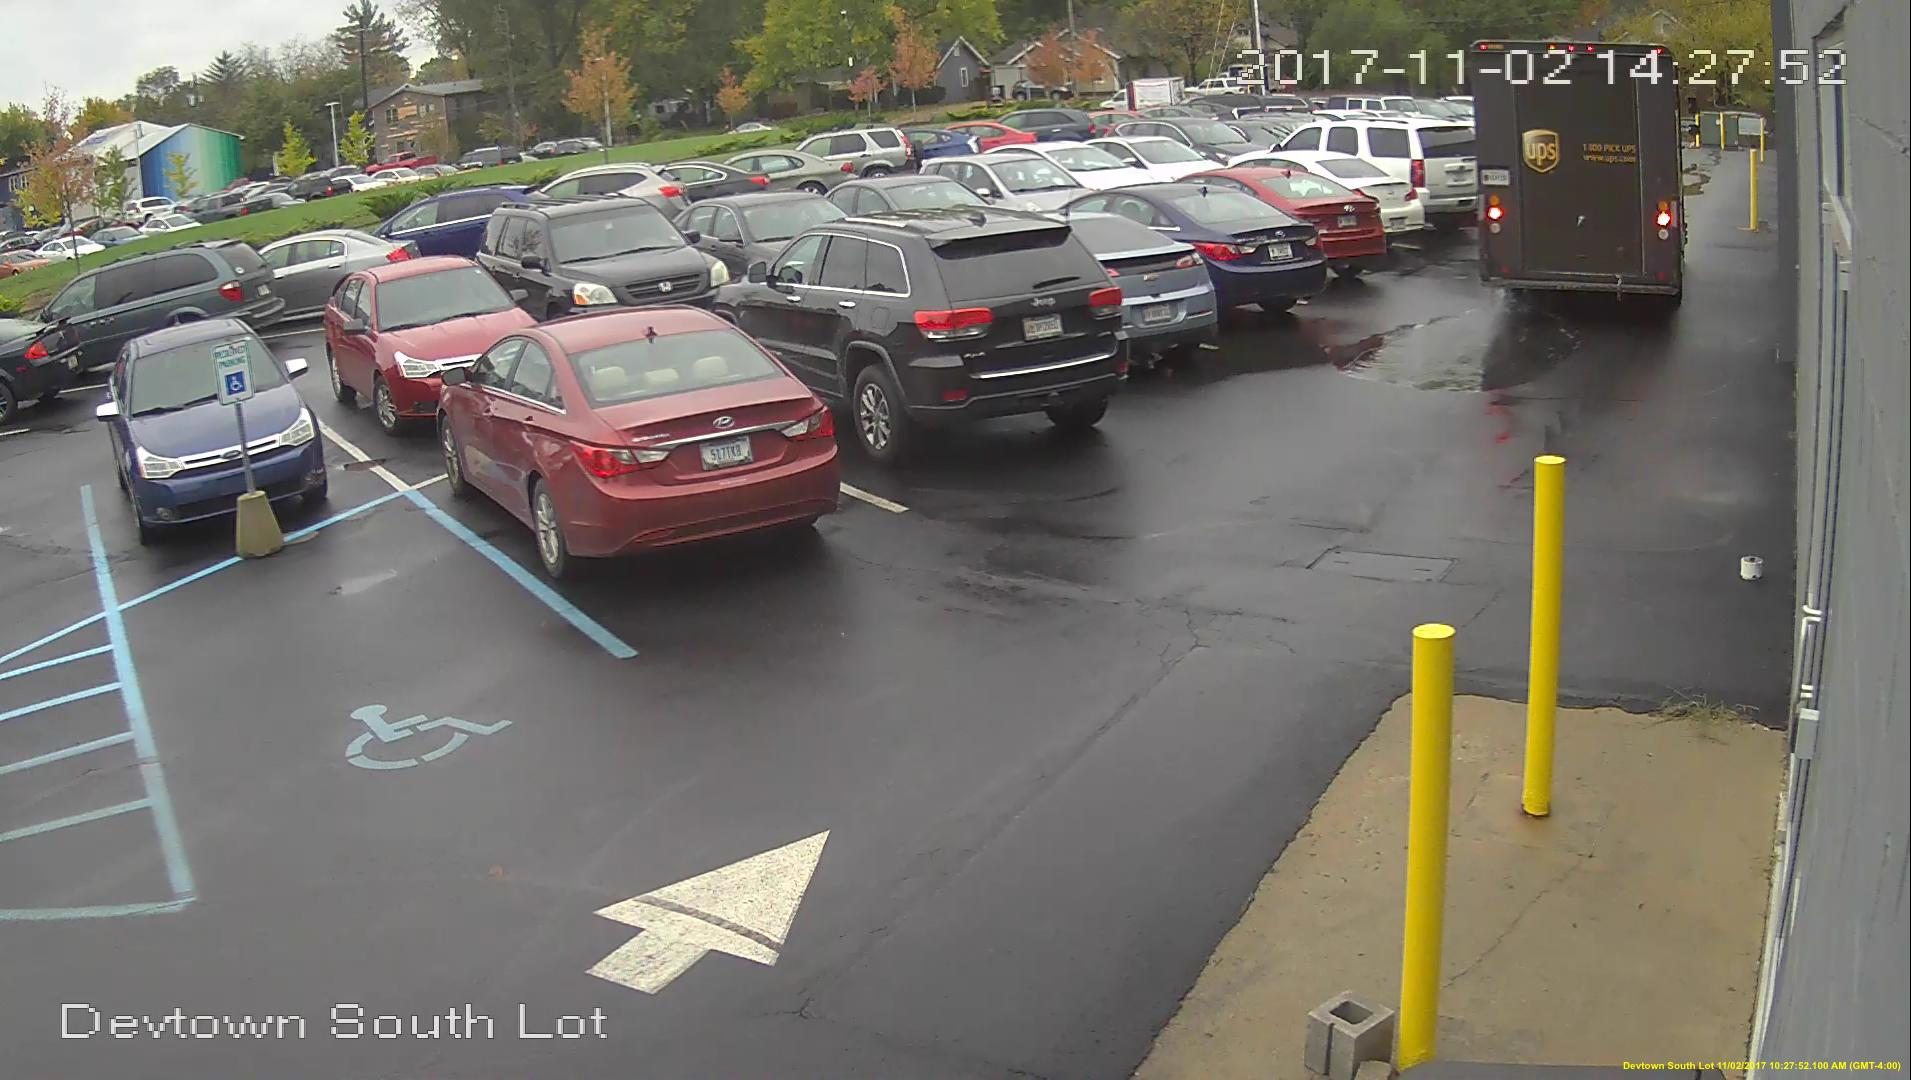ups_truck: (1478, 42, 1687, 310)
